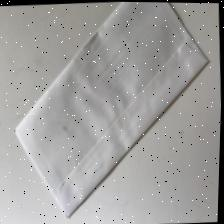paper: (3, 0, 224, 224)
